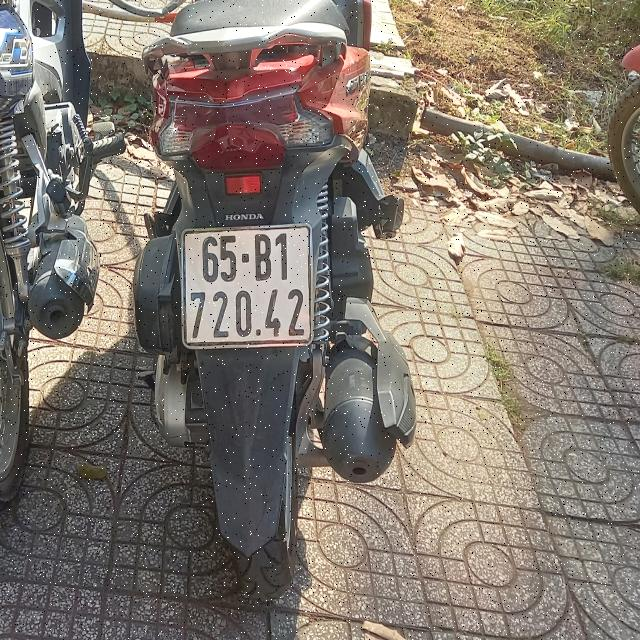0: (234, 288, 252, 338)
1: (276, 234, 290, 283)
2: (287, 287, 307, 339), (213, 292, 229, 337)
4: (265, 288, 281, 336)
5: (220, 234, 238, 285)
6: (201, 236, 220, 283)
7: (190, 291, 206, 338)
B: (255, 234, 272, 282)
